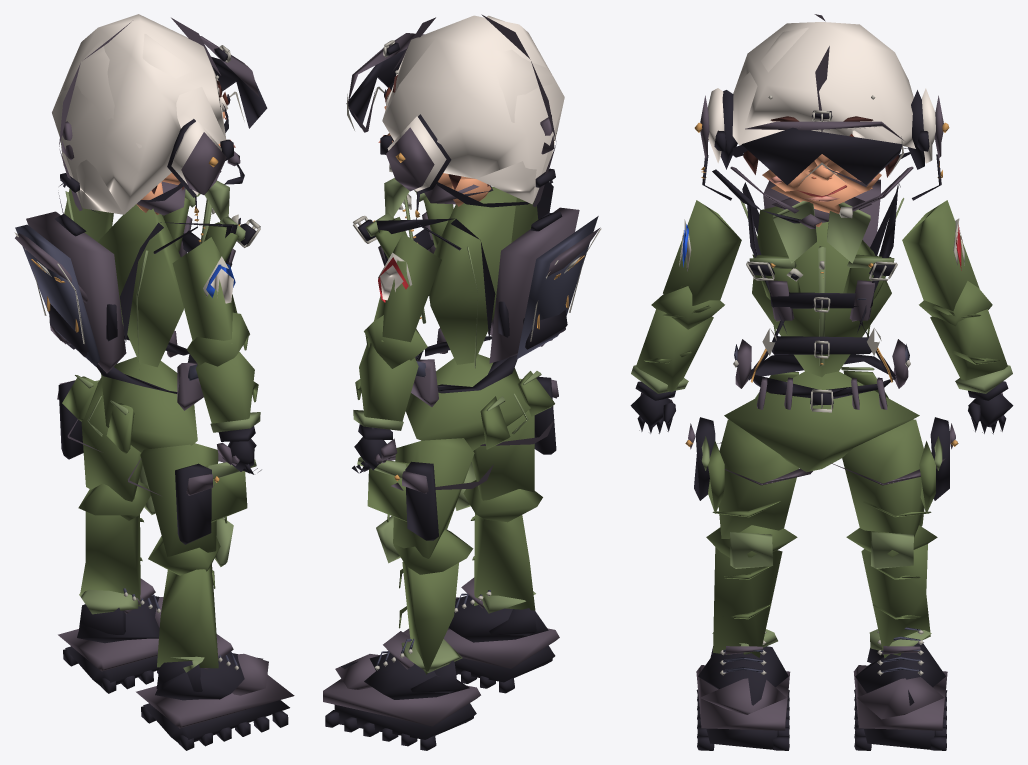
File: npc.helicopter-pilot.lod2.glb
The picture shows the model from 3 angles, left to right: view 1: azimuth 30°, elevation 25°; view 2: azimuth 150°, elevation 25°; view 3: azimuth 270°, elevation 25°; orthographic projection.
Parts seen in each view (by area): view 1: head, torso, footR, hip, legR, shinL, shinR, footL, foreArmR, legL, armR, handR (+1 smaller); view 2: head, torso, footL, hip, legL, footR, shinL, shinR, foreArmL, legR, armL, handL (+1 smaller); view 3: head, torso, hip, legL, footL, footR, legR, shinR, shinL, foreArmR, foreArmL, armL (+3 smaller).
Boxes of the visible parts, box(x1,y1,x2,y2) form: head: box(52, 14, 267, 253); torso: box(14, 180, 260, 373); footR: box(136, 634, 294, 750); hip: box(62, 324, 203, 453); legR: box(128, 443, 256, 556); shinL: box(78, 465, 155, 614); shinR: box(148, 518, 233, 672); footL: box(58, 578, 163, 693); foreArmR: box(186, 312, 260, 432); legL: box(57, 378, 142, 501); armR: box(172, 237, 237, 341); handR: box(217, 426, 261, 474); head: box(346, 14, 564, 250); torso: box(353, 177, 601, 368); footL: box(323, 631, 480, 750); hip: box(405, 317, 554, 450); legL: box(357, 438, 493, 558); footR: box(403, 577, 559, 693); shinL: box(376, 516, 473, 674); shinR: box(455, 462, 542, 613); foreArmL: box(353, 315, 427, 430); legR: box(471, 376, 558, 500); armL: box(374, 233, 441, 342); handL: box(352, 424, 397, 473); head: box(694, 14, 949, 228); torso: box(740, 179, 904, 382); hip: box(724, 339, 919, 472); legL: box(830, 417, 958, 537); footL: box(853, 627, 947, 750); footR: box(696, 632, 790, 750); legR: box(685, 417, 812, 538); shinR: box(706, 525, 797, 657); shinL: box(846, 525, 937, 658); foreArmR: box(631, 286, 724, 393); foreArmL: box(919, 281, 1012, 393); armL: box(902, 200, 979, 311).
Bounding box in the file's own units: 0.538 × 1.73 × 0.8677.
